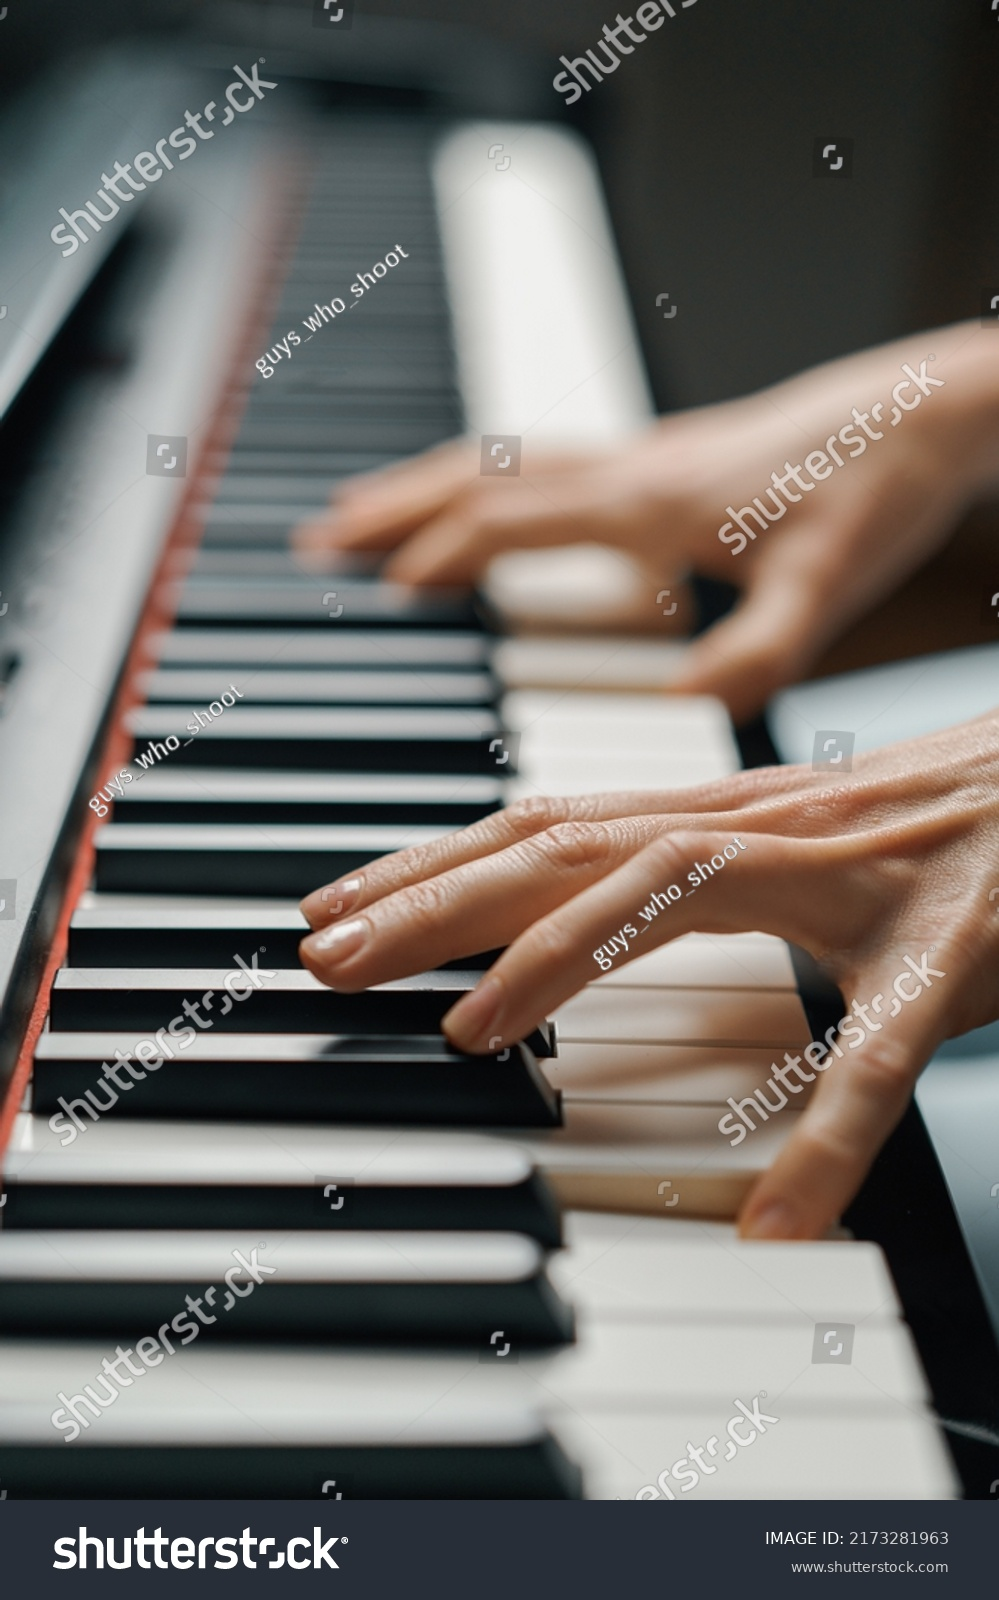Piano: (1, 70, 796, 1590)
